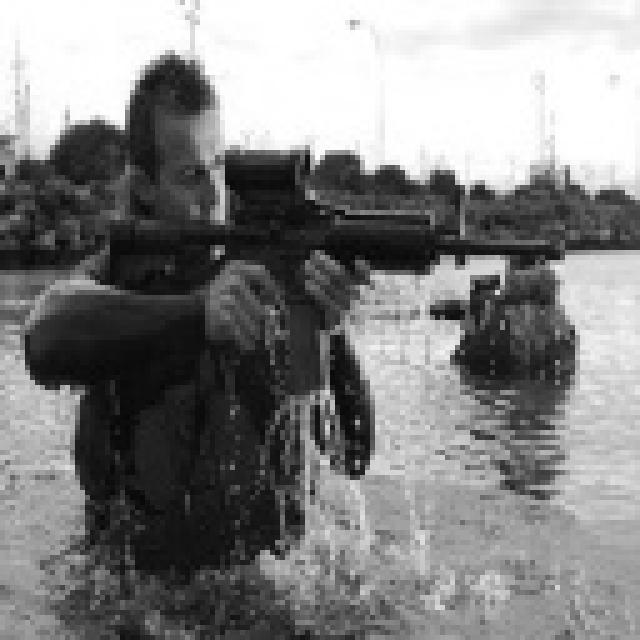Rifle: (94, 141, 586, 471)
